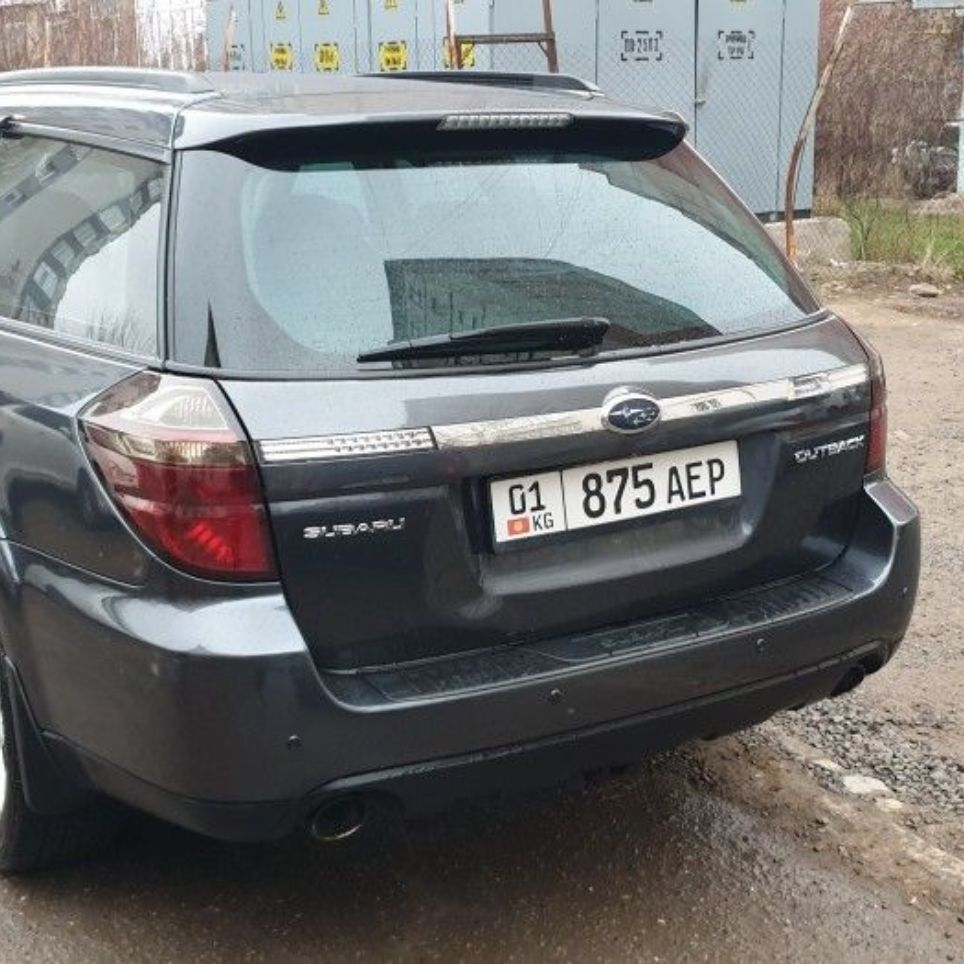license plate: (482, 438, 747, 549)
truck: (2, 59, 932, 884)
